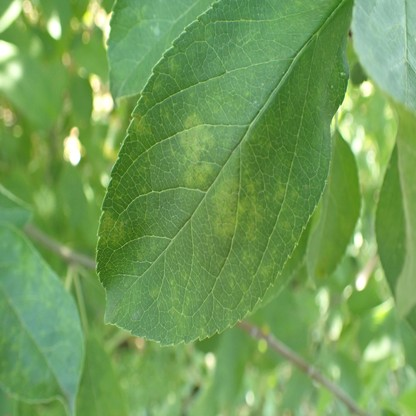scab: (0, 229, 81, 397), (181, 114, 213, 183), (213, 180, 238, 234), (240, 183, 261, 237), (100, 213, 128, 245), (131, 113, 151, 134), (135, 5, 147, 27), (275, 183, 285, 202), (277, 219, 291, 232), (261, 265, 273, 277)
